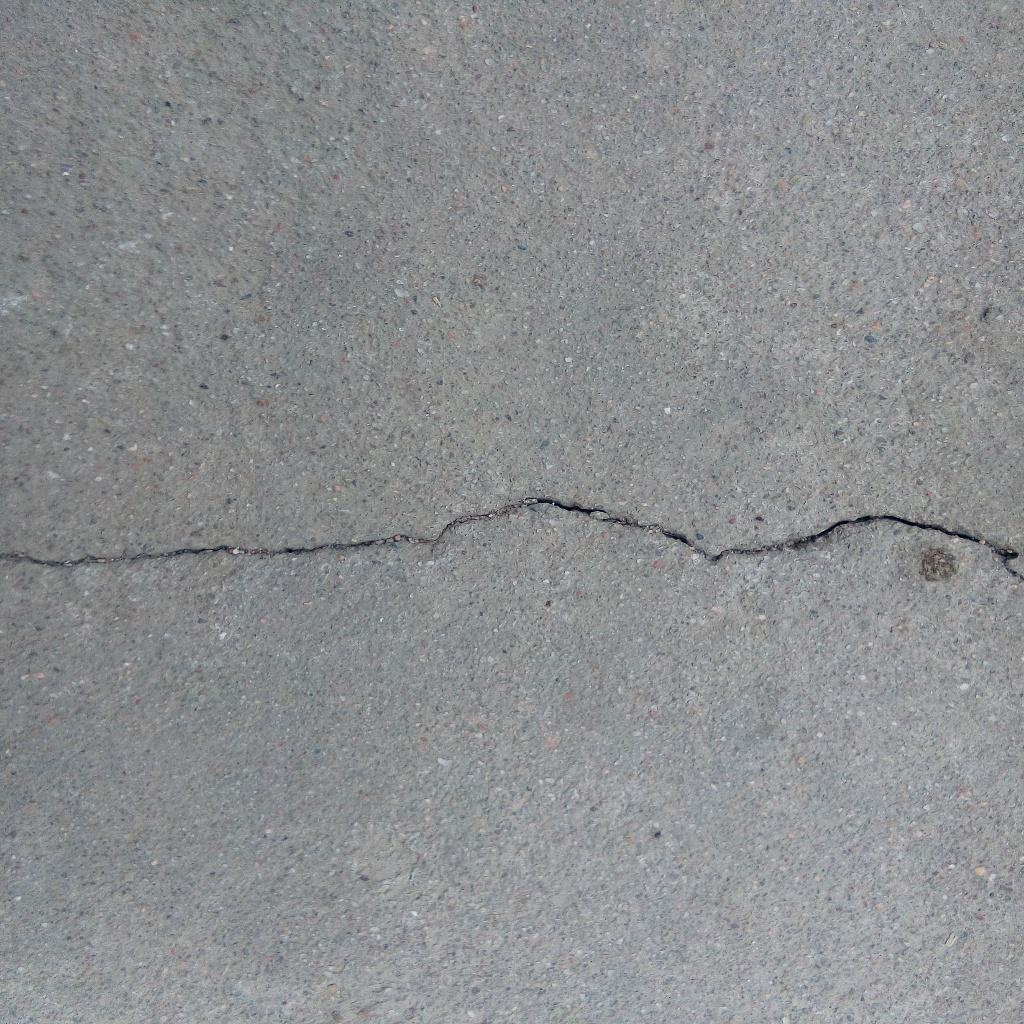Crack: (1, 495, 1024, 585)
